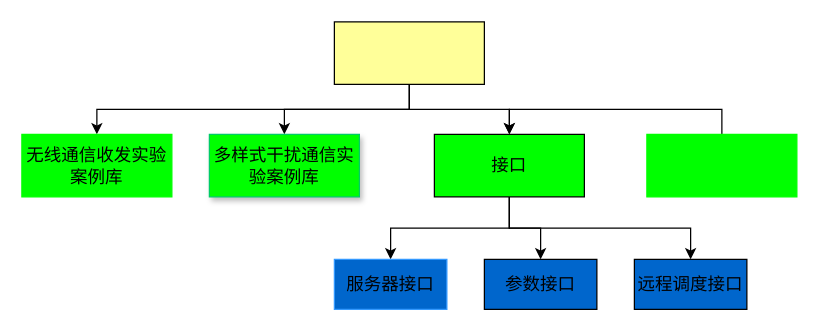
This 819x331 diagram has some shape labels left out. Each missing label, with the centre of its shape:
实验系统软件终端: (x=408, y=52)
界面操作及显示端: (x=721, y=165)
